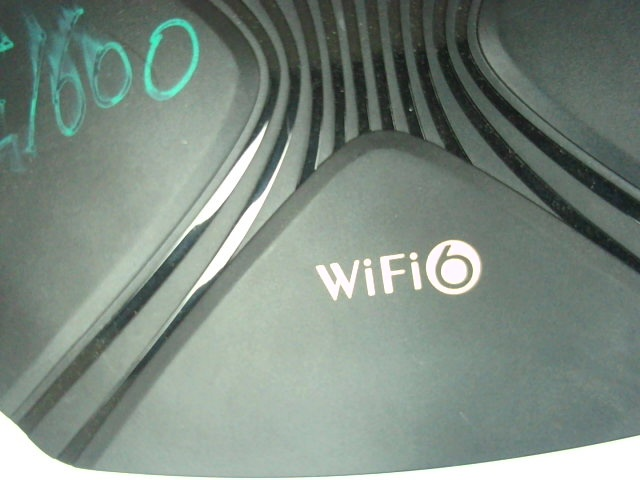AK_ZTEWIFI6Black: (302, 233, 507, 313)
